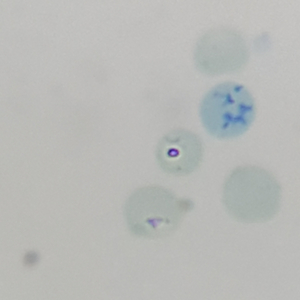aggregate reticulocyte: (198, 80, 257, 141)
erythrocyte: (219, 163, 283, 225), (122, 183, 188, 242), (192, 25, 250, 79), (153, 127, 205, 178)
